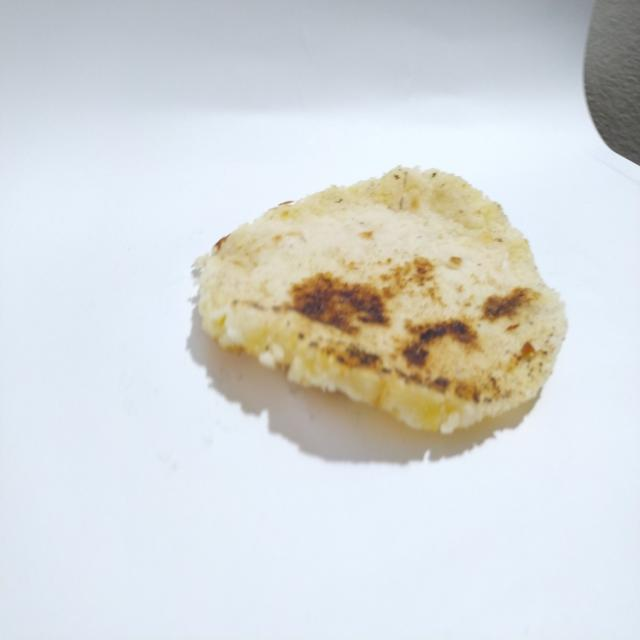Mbeju: (190, 149, 573, 446)
